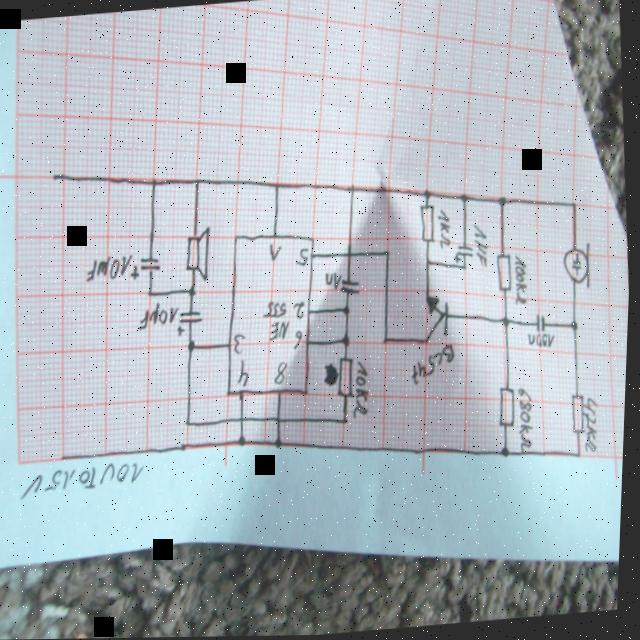capacitor: (131, 257, 164, 282), (178, 311, 207, 337), (341, 279, 363, 298), (455, 246, 477, 265), (538, 316, 549, 336)
crossover: (277, 417, 286, 427), (347, 251, 356, 260), (242, 417, 249, 425)
junction: (240, 435, 251, 449), (344, 334, 353, 350), (504, 447, 514, 460), (461, 194, 471, 206), (278, 439, 287, 452), (500, 197, 509, 210), (572, 321, 581, 334), (504, 317, 513, 330), (190, 341, 199, 354), (424, 190, 433, 202), (186, 420, 196, 430), (151, 178, 160, 189), (190, 288, 199, 298), (345, 306, 353, 317), (344, 418, 353, 427), (274, 182, 283, 191), (194, 178, 202, 188), (384, 338, 393, 346), (350, 185, 357, 195), (426, 261, 434, 269), (578, 453, 586, 461), (463, 265, 471, 273), (572, 203, 579, 211), (149, 290, 156, 298), (386, 251, 393, 258)
resistor: (338, 357, 359, 401), (500, 387, 520, 431), (419, 205, 439, 247), (496, 254, 516, 295), (572, 395, 590, 437)
terminal: (50, 171, 63, 184), (61, 454, 72, 465)
text: (21, 459, 151, 502), (412, 346, 460, 388), (518, 388, 541, 455), (87, 254, 138, 283), (138, 300, 183, 332), (263, 299, 294, 344), (353, 360, 375, 421), (585, 398, 605, 456), (514, 254, 532, 309), (472, 224, 492, 271), (437, 209, 455, 252), (530, 331, 560, 352), (325, 271, 345, 293), (239, 360, 253, 389), (276, 362, 292, 387), (235, 333, 251, 357), (270, 242, 285, 264), (297, 248, 313, 268), (294, 330, 307, 351), (295, 301, 308, 321)
transistor: (424, 295, 454, 345)
